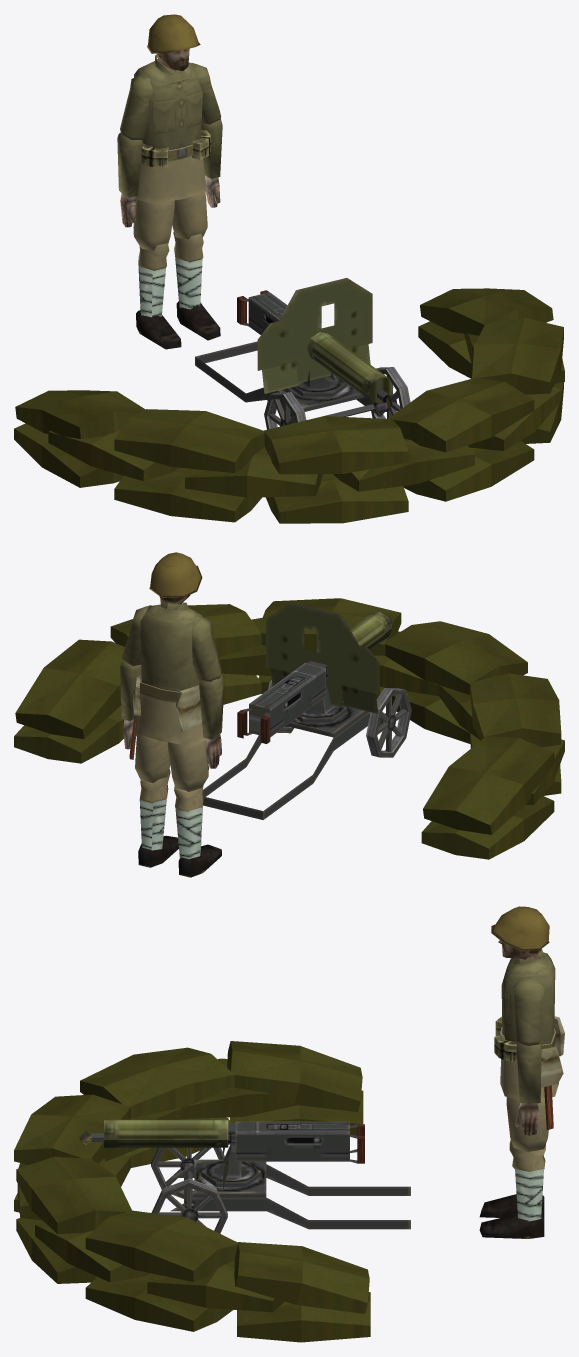
Rendered from esrsandbagmg.dae.
3 views of the same model, one above another, from view 1: azimuth 30°, elevation 25°; view 2: azimuth 150°, elevation 25°; view 3: azimuth 270°, elevation 25° (orthographic). The views are drawn at different scales.
Parts seen in each view (by area): view 1: base, gun, torso, carriage, head, wheels, lleg, rleg, rloarm, rthigh, ruparm, lthigh (+5 smaller); view 2: base, gun, torso, carriage, wheels, head, lleg, rleg, rloarm, rthigh, ruparm, lthigh (+5 smaller); view 3: base, gun, torso, carriage, wheels, head, lleg, lloarm, luparm, turret, lthigh, lfoot (+1 smaller).
Boxes of the visible parts, x1=… form: base: x1=14, y1=288, x2=564, y2=523; gun: x1=237, y1=278, x2=393, y2=403; torso: x1=134, y1=54, x2=210, y2=203; carriage: x1=195, y1=341, x2=387, y2=420; head: x1=147, y1=14, x2=200, y2=70; wheels: x1=264, y1=367, x2=410, y2=429; lleg: x1=173, y1=232, x2=203, y2=309; rleg: x1=138, y1=243, x2=169, y2=317; rloarm: x1=117, y1=132, x2=142, y2=227; rthigh: x1=133, y1=199, x2=174, y2=250; ruparm: x1=120, y1=75, x2=153, y2=139; lthigh: x1=172, y1=192, x2=207, y2=239; base: x1=14, y1=598, x2=564, y2=859; gun: x1=237, y1=602, x2=392, y2=743; torso: x1=129, y1=600, x2=205, y2=759; carriage: x1=202, y1=701, x2=381, y2=819; wheels: x1=268, y1=680, x2=411, y2=757; head: x1=149, y1=552, x2=202, y2=604; lleg: x1=139, y1=769, x2=170, y2=850; rleg: x1=174, y1=785, x2=203, y2=859; rloarm: x1=199, y1=674, x2=224, y2=768; rthigh: x1=168, y1=740, x2=208, y2=791; ruparm: x1=191, y1=616, x2=221, y2=681; lthigh: x1=135, y1=734, x2=170, y2=783; base: x1=14, y1=1041, x2=370, y2=1342; gun: x1=91, y1=1117, x2=364, y2=1190; torso: x1=494, y1=949, x2=564, y2=1129; carriage: x1=170, y1=1159, x2=410, y2=1229; wheels: x1=151, y1=1147, x2=227, y2=1233; head: x1=491, y1=906, x2=549, y2=960; lleg: x1=509, y1=1140, x2=545, y2=1221; lloarm: x1=515, y1=1042, x2=541, y2=1135; luparm: x1=513, y1=978, x2=544, y2=1045; turret: x1=201, y1=1144, x2=260, y2=1187; lthigh: x1=506, y1=1097, x2=548, y2=1152; lfoot: x1=479, y1=1214, x2=544, y2=1238.
Bounding box in the file's own units: 23.31 × 22.52 × 14.2.
Materials: 1 (1 with a texture image).
